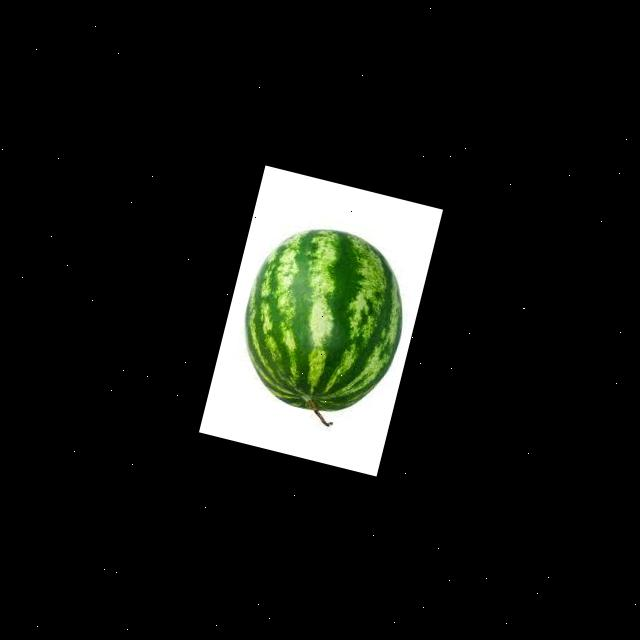watermelon: (228, 218, 410, 416)
